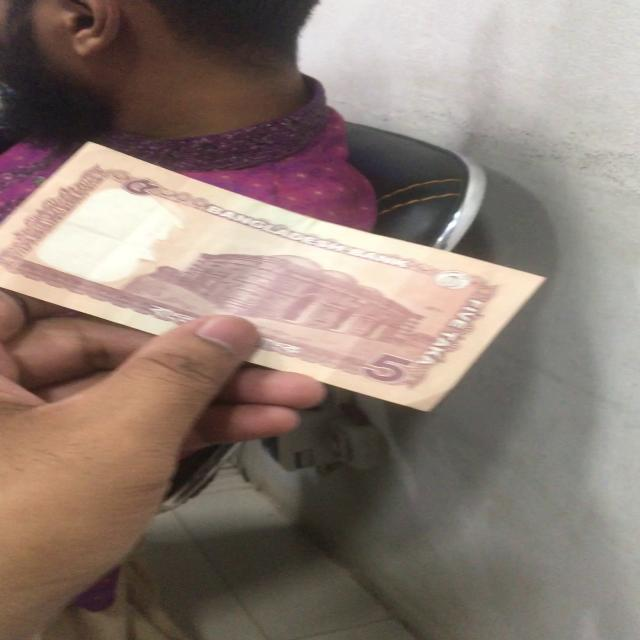Taka: (12, 145, 518, 412)
